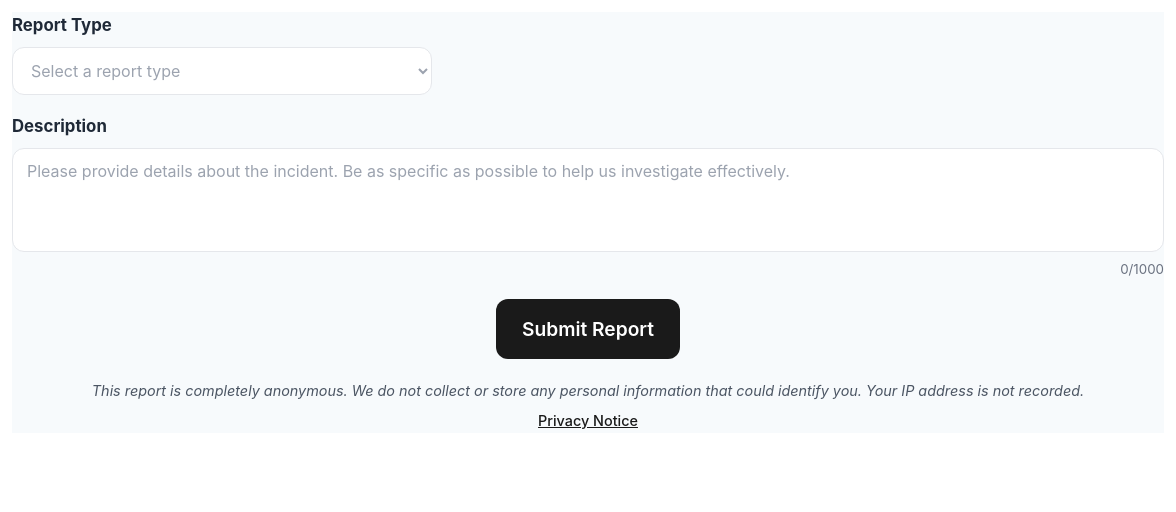
it: ReportForm › should handle submission errors gracefully
Select "Spam" in the dropdown labelled "Report Type": (222, 71) 12,47 -> 432,95
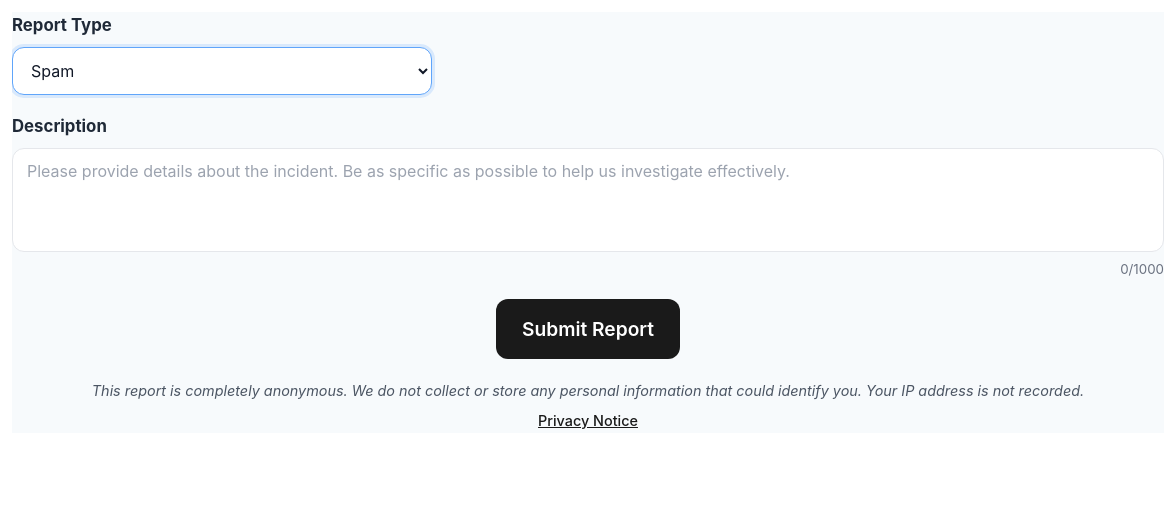
In the text box labelled "Description": (588, 200) 12,148 -> 1164,252, type "Valid description for testing."
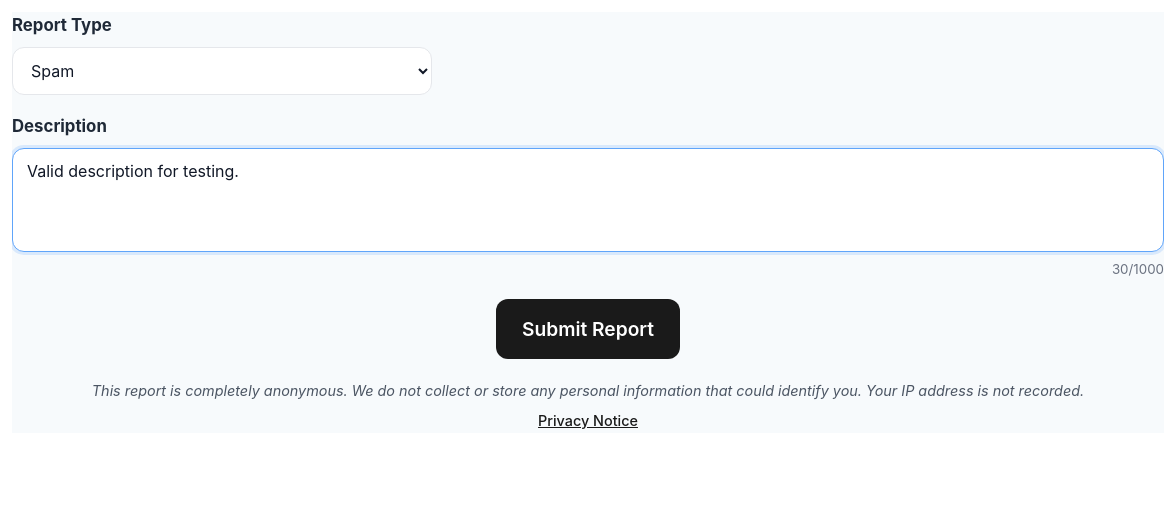
Click the button "Submit Report": (588, 329) 496,299 -> 680,359
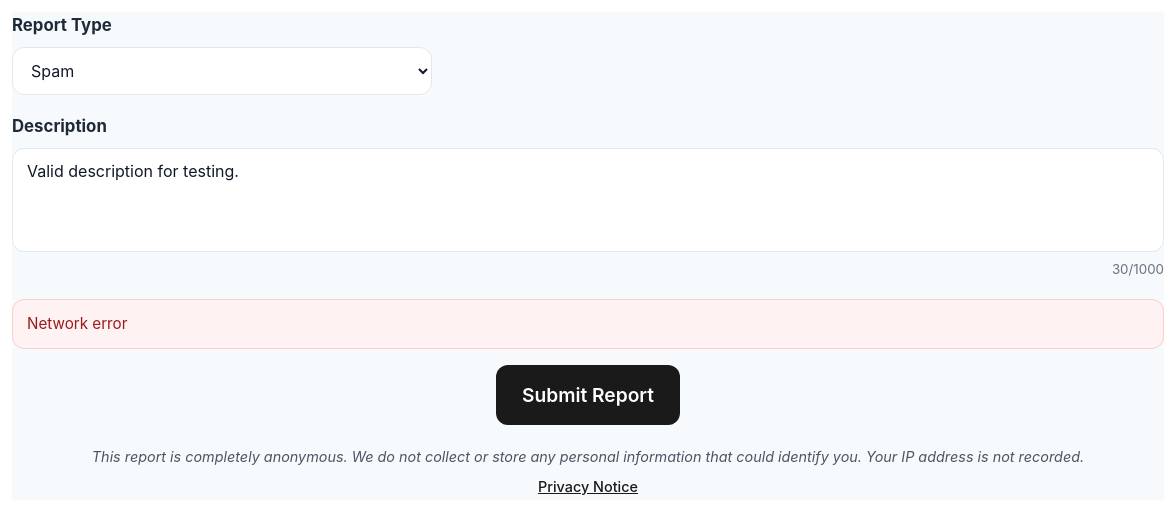
Expected: the text "Network error" is shown, 12,299 -> 1164,349
